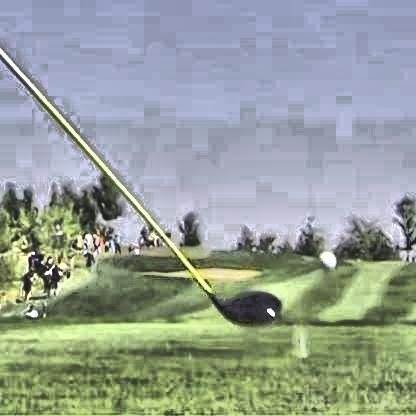golfball: (315, 248, 333, 268)
